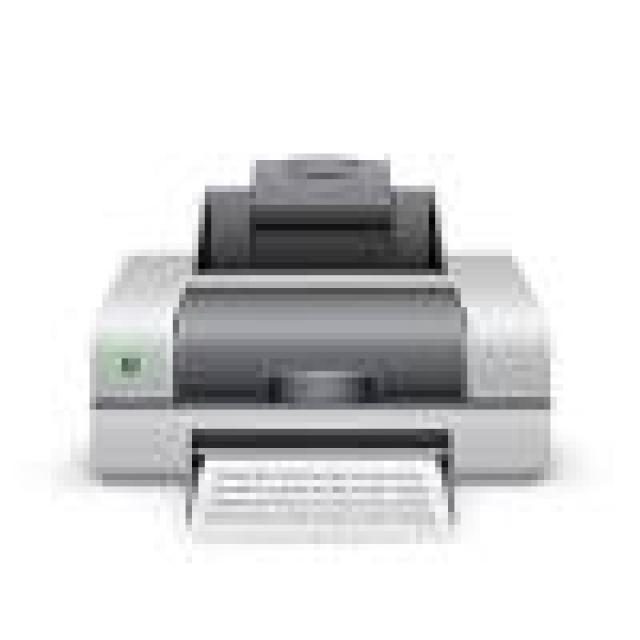printer: (72, 117, 564, 576)
